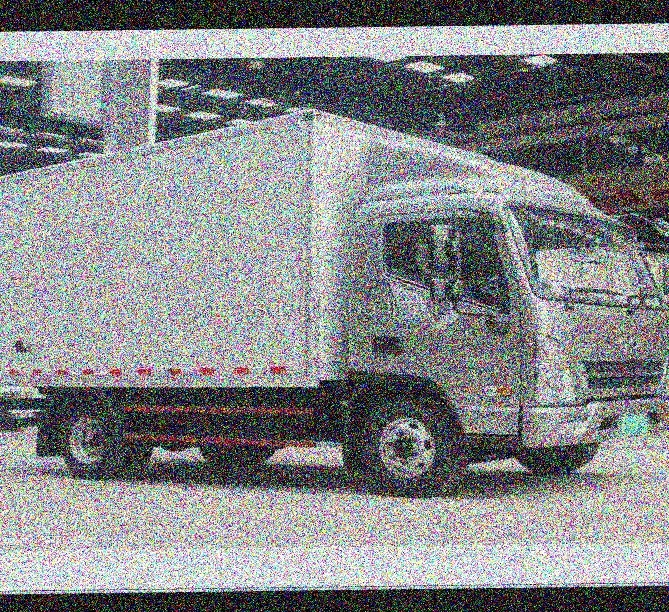truck: (0, 93, 669, 503)
